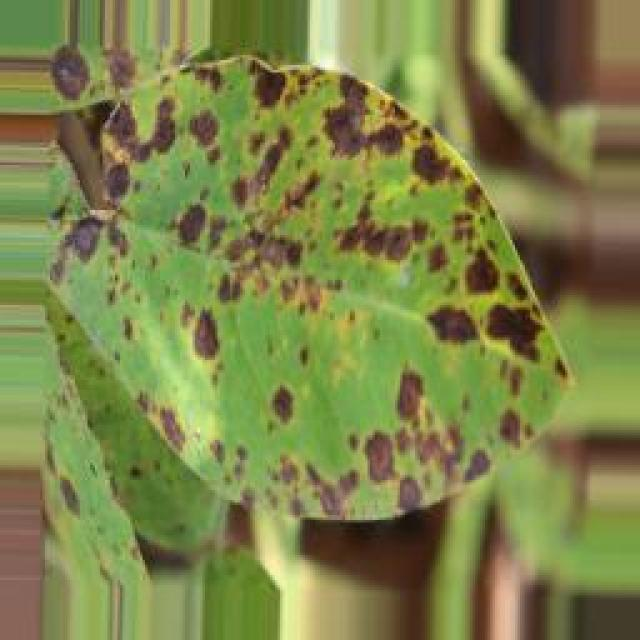Yellowish: (30, 23, 577, 514)
